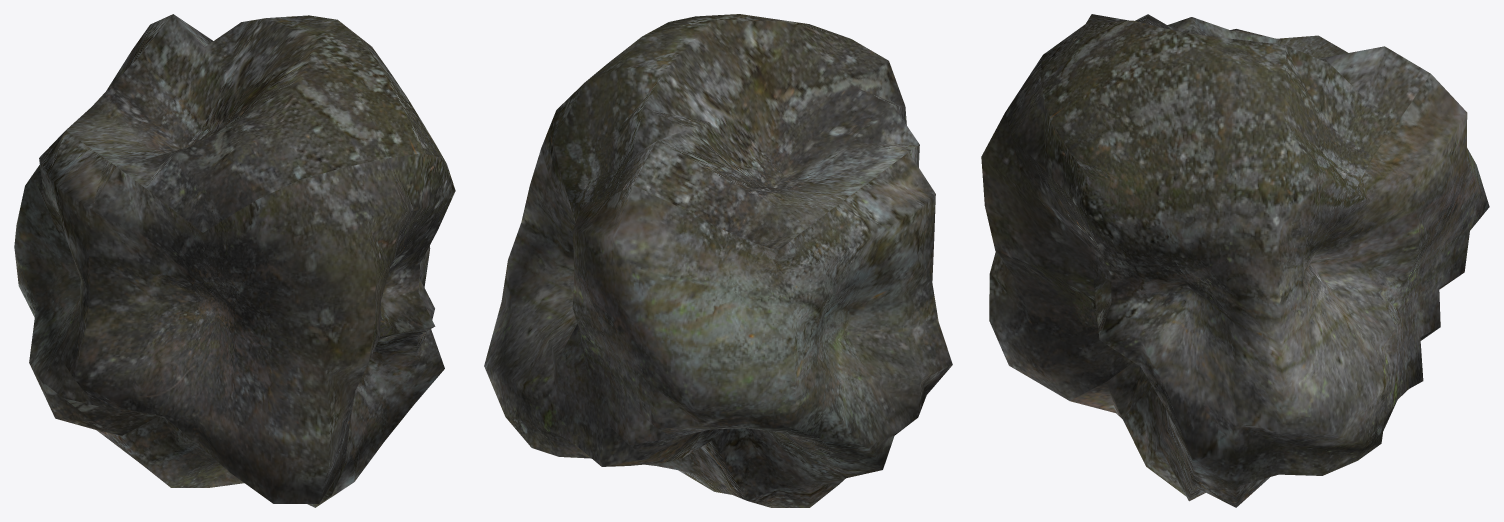
Rendered from rock3.fbx.
The picture shows the model from 3 angles, left to right: view 1: azimuth 30°, elevation 25°; view 2: azimuth 150°, elevation 25°; view 3: azimuth 270°, elevation 25°; orthographic projection.
Parts seen in each view (by area): view 1: Cube.039; view 2: Cube.039; view 3: Cube.039.
Boxes of the visible parts, box(x1,y1,x2,y2) form: Cube.039: box(14, 14, 455, 507); Cube.039: box(484, 14, 952, 507); Cube.039: box(981, 14, 1489, 507).
Size of the model in its own units: 227 by 252 by 249.
